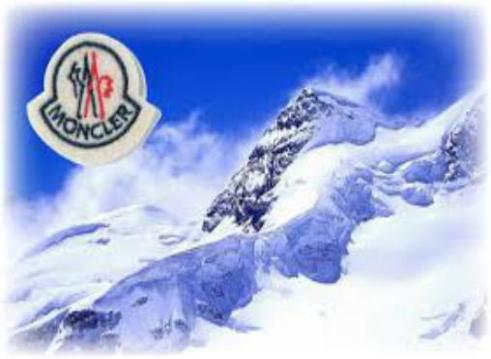MONCLER: (67, 50, 112, 120)
